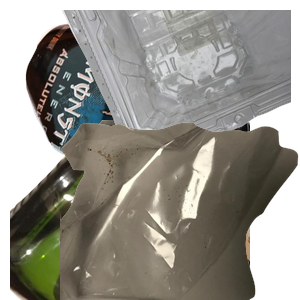glass: (10, 120, 250, 300)
metal: (23, 15, 263, 195)
plastic: (60, 10, 300, 162)
trash: (60, 120, 300, 300)
